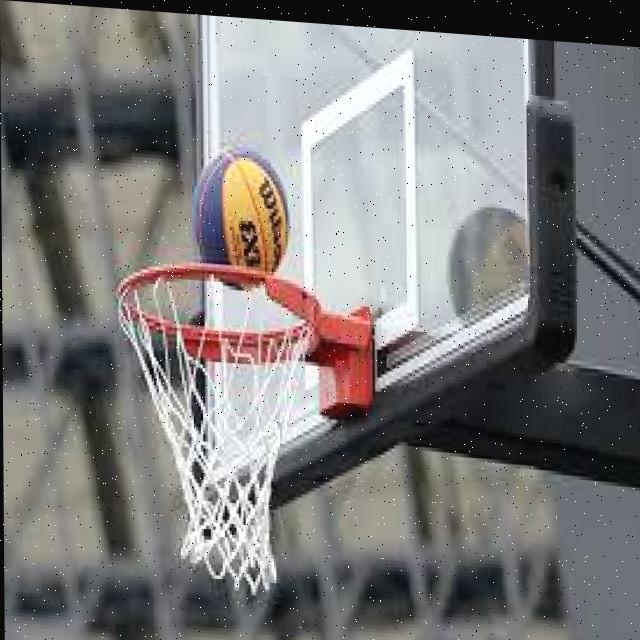basketball: (194, 147, 288, 294)
hoop: (118, 257, 321, 593)
